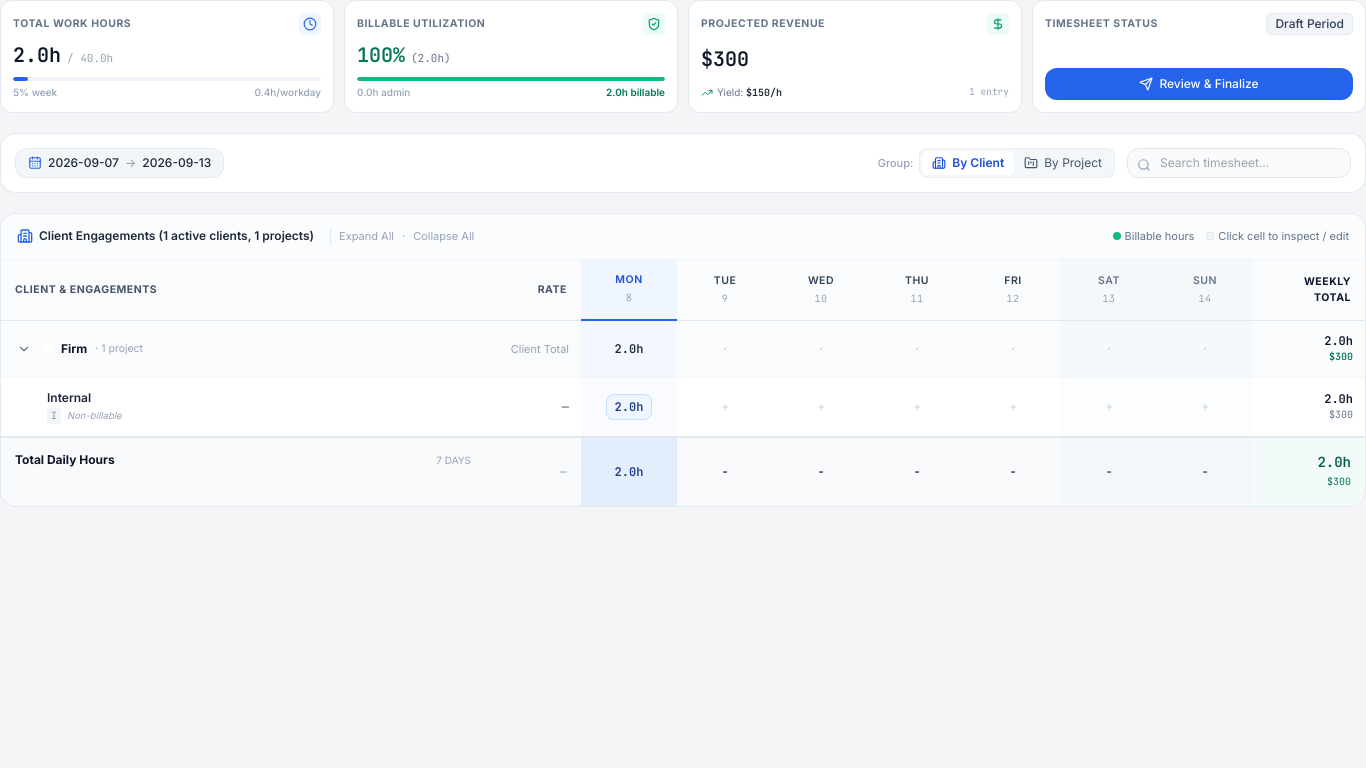
Consultant UI workflows › renders weekly timesheet grid cleanly without log time button or detailed log, and live search filters rows
Expected: the button "By Client" is shown, [922, 151, 1014, 175]
# Searching for non-matching query hides project row and shows empty state
Type "Nonexistent" into the field with placeholder "Search timesheet...".
click(1239, 163); type("Nonexistent")  # box [1127, 148, 1351, 178]
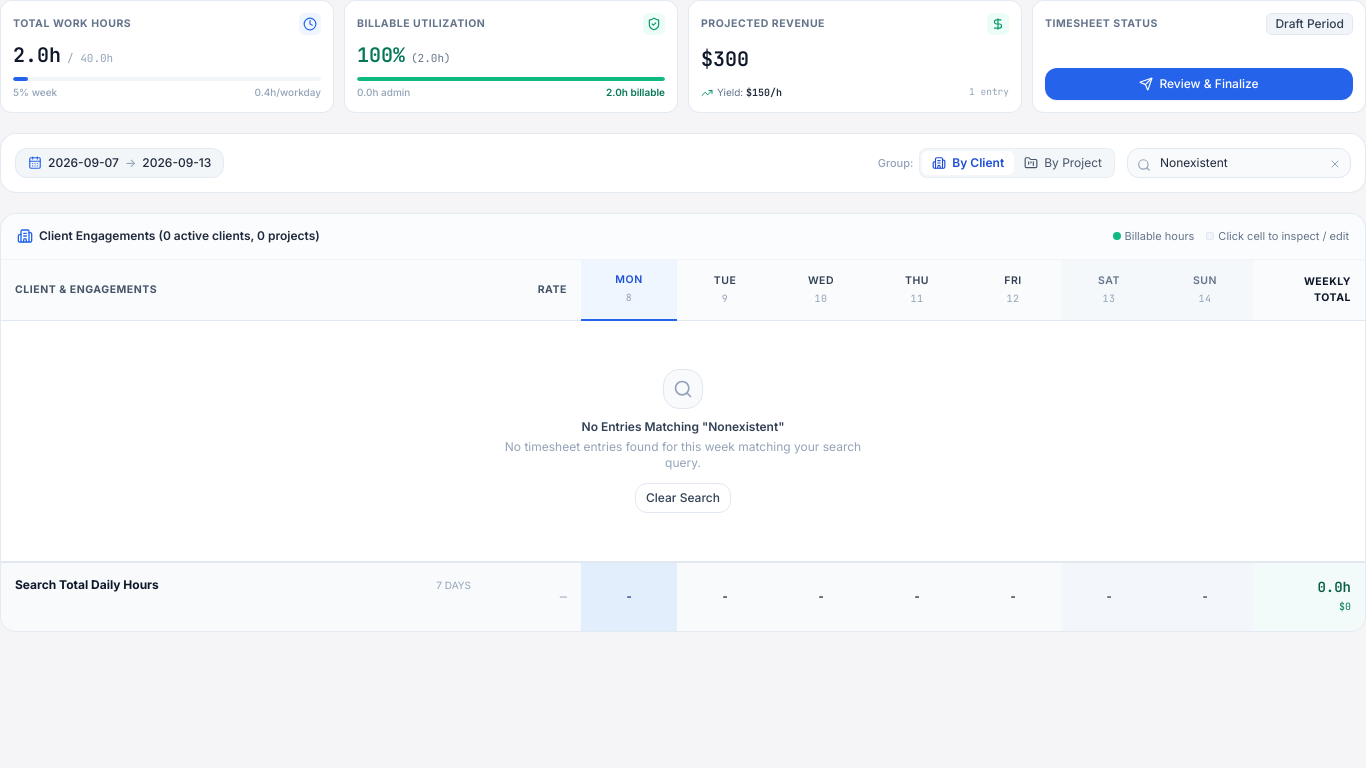
Expected: the text "No Entries Matching \"Nonexistent\"" is shown, [582, 419, 784, 434]
Expected: the number of buttons named "clear search" is 2
Click the button named "clear search".
click(1335, 164)  # box [1327, 156, 1343, 172]
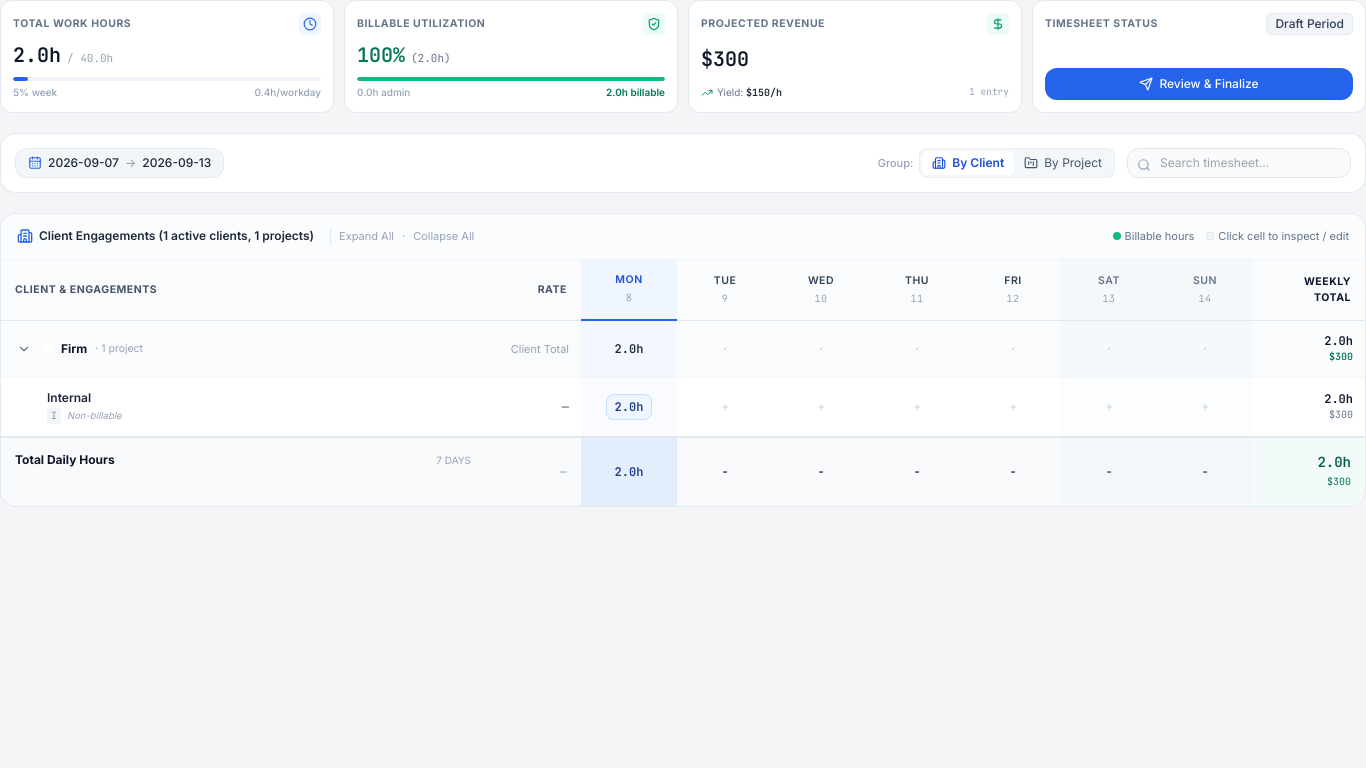
Expected: the text "No Entries Matching \"Nonexistent\"" is gone
Expected: the text "Firm" is shown, [61, 340, 87, 356]
